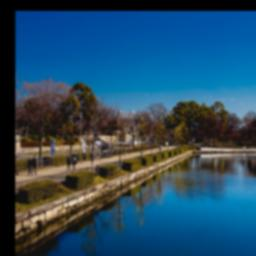Crow: (88, 132, 116, 159)
